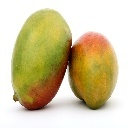mango: (11, 8, 72, 109)
